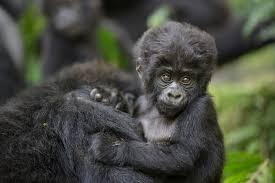goriile_montagne: (127, 15, 240, 181)
